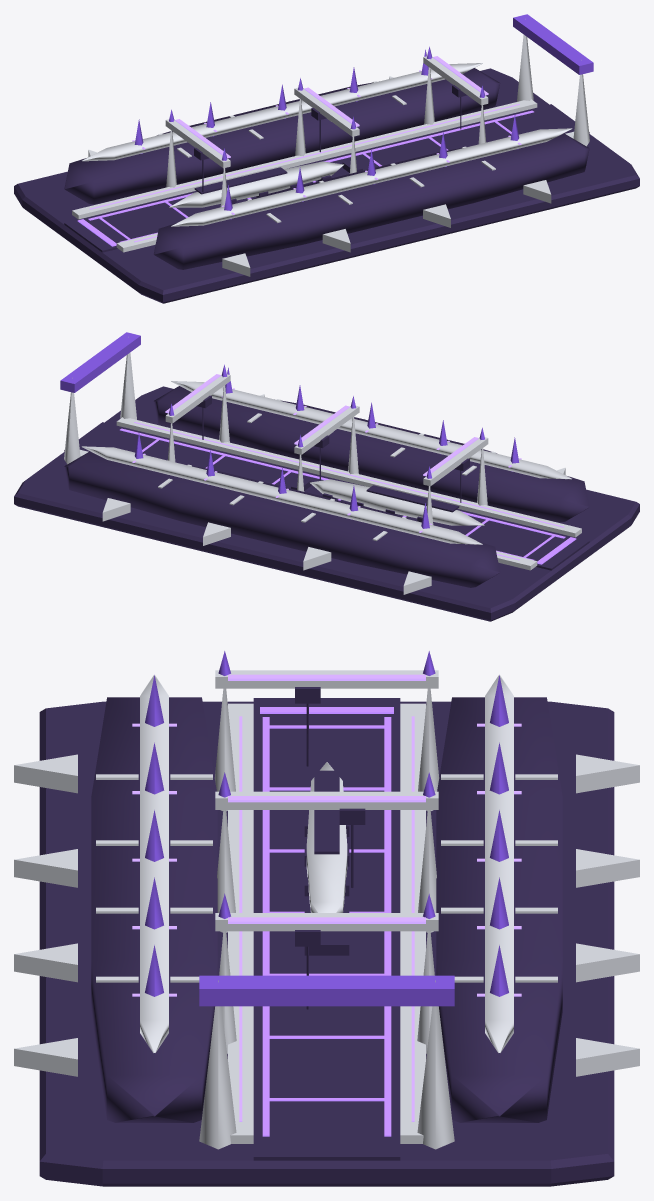
File: slipway-hadron.glb
3 views of the same model, one above another, from view 1: azimuth 30°, elevation 25°; view 2: azimuth 150°, elevation 25°; view 3: azimuth 270°, elevation 25° (orthographic). The views are drawn at different scales.
Parts seen in each view (by area): view 1: blade_hall (×2), foundation_slab, blade_crest (×2), slip_floor, slip_lip (×2), hull_in_progress, gantry_beam (×3), head_lintel, line_light_p, lip_seam, head_pylon_s, hull_in_progress_deck (+5 smaller); view 2: blade_hall (×2), foundation_slab, blade_crest (×2), slip_floor, slip_lip (×2), hull_in_progress, gantry_beam (×3), head_lintel, line_light_s, lip_seam, head_pylon_p, hull_in_progress_deck (+5 smaller); view 3: blade_hall (×2), foundation_slab, slip_floor, blade_crest (×2), slip_lip (×2), gantry_beam (×3), head_lintel, gantry_worklight (×3), buttress_2 (×2), buttress_0 (×2), buttress_1 (×2), buttress_3 (×2) (+10 smaller).
Part boxes in pixels (x1=…): blade_hall (×2): x1=64, y1=68, x2=589, y2=269; foundation_slab: x1=14, y1=68, x2=639, y2=303; blade_crest (×2): x1=82, y1=63, x2=572, y2=226; slip_floor: x1=64, y1=104, x2=589, y2=252; slip_lip (×2): x1=72, y1=99, x2=573, y2=252; hull_in_progress: x1=169, y1=161, x2=343, y2=207; gantry_beam (×3): x1=165, y1=56, x2=488, y2=168; head_lintel: x1=513, y1=14, x2=593, y2=74; line_light_p: x1=88, y1=110, x2=533, y2=220; lip_seam: x1=89, y1=104, x2=519, y2=209; head_pylon_s: x1=573, y1=59, x2=589, y2=146; hull_in_progress_deck: x1=194, y1=167, x2=287, y2=194; blade_hall (×2): x1=64, y1=386, x2=589, y2=587; foundation_slab: x1=14, y1=386, x2=639, y2=621; blade_crest (×2): x1=81, y1=381, x2=571, y2=544; slip_floor: x1=64, y1=422, x2=589, y2=570; slip_lip (×2): x1=80, y1=417, x2=581, y2=570; hull_in_progress: x1=310, y1=479, x2=484, y2=525; gantry_beam (×3): x1=165, y1=374, x2=488, y2=486; head_lintel: x1=60, y1=332, x2=140, y2=392; line_light_s: x1=120, y1=428, x2=565, y2=538; lip_seam: x1=134, y1=422, x2=564, y2=527; head_pylon_p: x1=64, y1=377, x2=80, y2=464; hull_in_progress_deck: x1=366, y1=485, x2=459, y2=512; blade_hall (×2): x1=91, y1=697, x2=562, y2=1122; foundation_slab: x1=39, y1=701, x2=614, y2=1186; slip_floor: x1=253, y1=698, x2=400, y2=1160; blade_crest (×2): x1=140, y1=675, x2=513, y2=1052; slip_lip (×2): x1=228, y1=703, x2=425, y2=1143; gantry_beam (×3): x1=215, y1=670, x2=438, y2=931; head_lintel: x1=199, y1=975, x2=454, y2=1006; gantry_worklight (×3): x1=228, y1=674, x2=425, y2=923; buttress_2 (×2): x1=14, y1=943, x2=639, y2=982; buttress_0 (×2): x1=14, y1=754, x2=639, y2=793; buttress_1 (×2): x1=14, y1=849, x2=639, y2=887; buttress_3 (×2): x1=14, y1=1038, x2=639, y2=1076.
Bounding box in the file's own units: 340 × 65.23 × 194.
